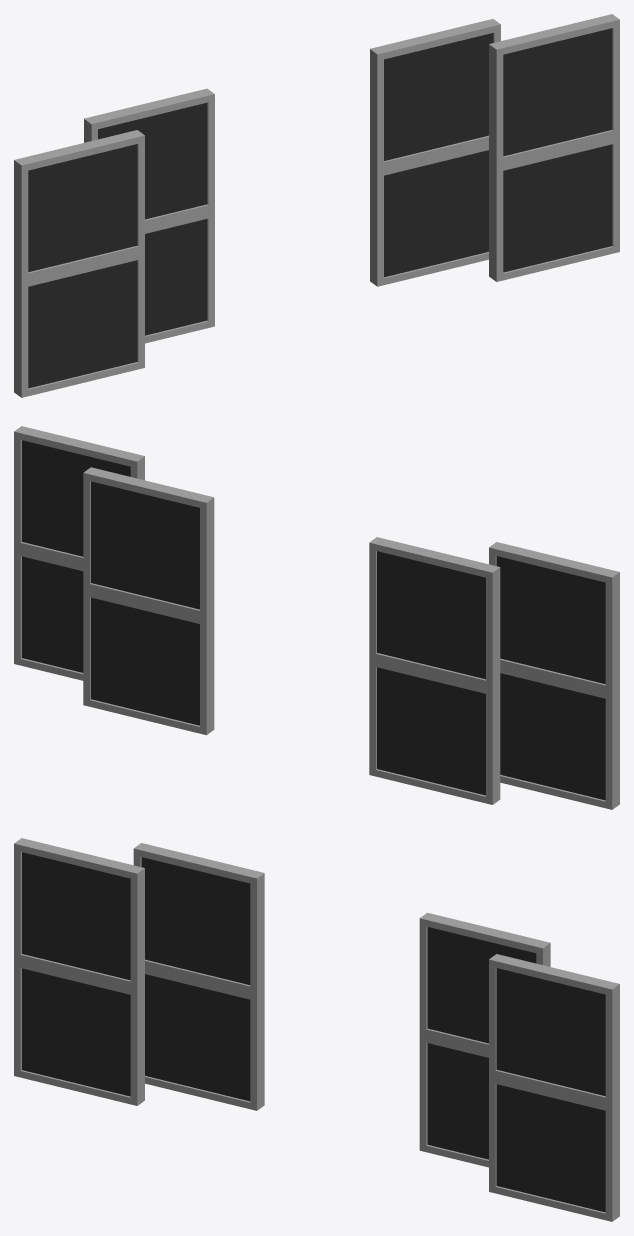
The model's file is puertas.fbx.
3 renders of one model, top to bottom at view 1: azimuth 30°, elevation 25°; view 2: azimuth 150°, elevation 25°; view 3: azimuth 330°, elevation 25°, orthographic.
Visible parts, largest first — view 1: puerta_corrediza2, puerta_corrediza, puerta_inamovible2, puerta_inamovible; view 2: puerta_inamovible2, puerta_inamovible, puerta_corrediza, puerta_corrediza2; view 3: puerta_corrediza2, puerta_corrediza, puerta_inamovible, puerta_inamovible2.
Boxes of the visible parts, <box> form: puerta_corrediza2: <box>489,14,619,281</box>; puerta_corrediza: <box>14,130,144,397</box>; puerta_inamovible2: <box>370,19,500,286</box>; puerta_inamovible: <box>84,88,214,343</box>; puerta_inamovible2: <box>83,467,214,735</box>; puerta_inamovible: <box>369,537,500,804</box>; puerta_corrediza: <box>489,542,619,809</box>; puerta_corrediza2: <box>14,426,144,680</box>; puerta_corrediza2: <box>489,954,619,1221</box>; puerta_corrediza: <box>14,838,144,1105</box>; puerta_inamovible: <box>133,843,264,1110</box>; puerta_inamovible2: <box>419,912,550,1167</box>.
Size of the model in its own units: 9701 by 3600 by 915.
